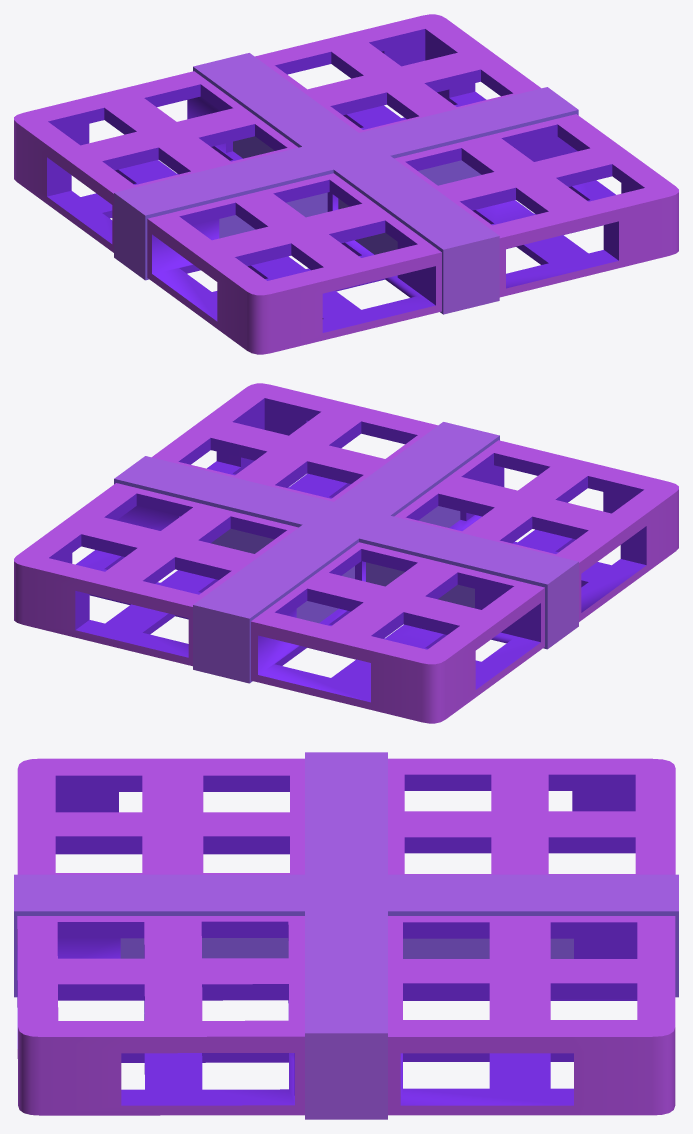
The model's file is Purple_Pallet.fbx.
3 renders of one model, top to bottom at view 1: azimuth 30°, elevation 25°; view 2: azimuth 150°, elevation 25°; view 3: azimuth 270°, elevation 25°, orthographic. The views are drawn at different scales.
Parts seen in each view (by area): view 1: Purple_Pallet; view 2: Purple_Pallet; view 3: Purple_Pallet.
Boxes of the visible parts, x1,y1,x2,y2 form: Purple_Pallet: (14,14,678,354); Purple_Pallet: (14,383,678,723); Purple_Pallet: (14,752,678,1119).
Bounding box in the file's own units: 115 × 16.44 × 115.
